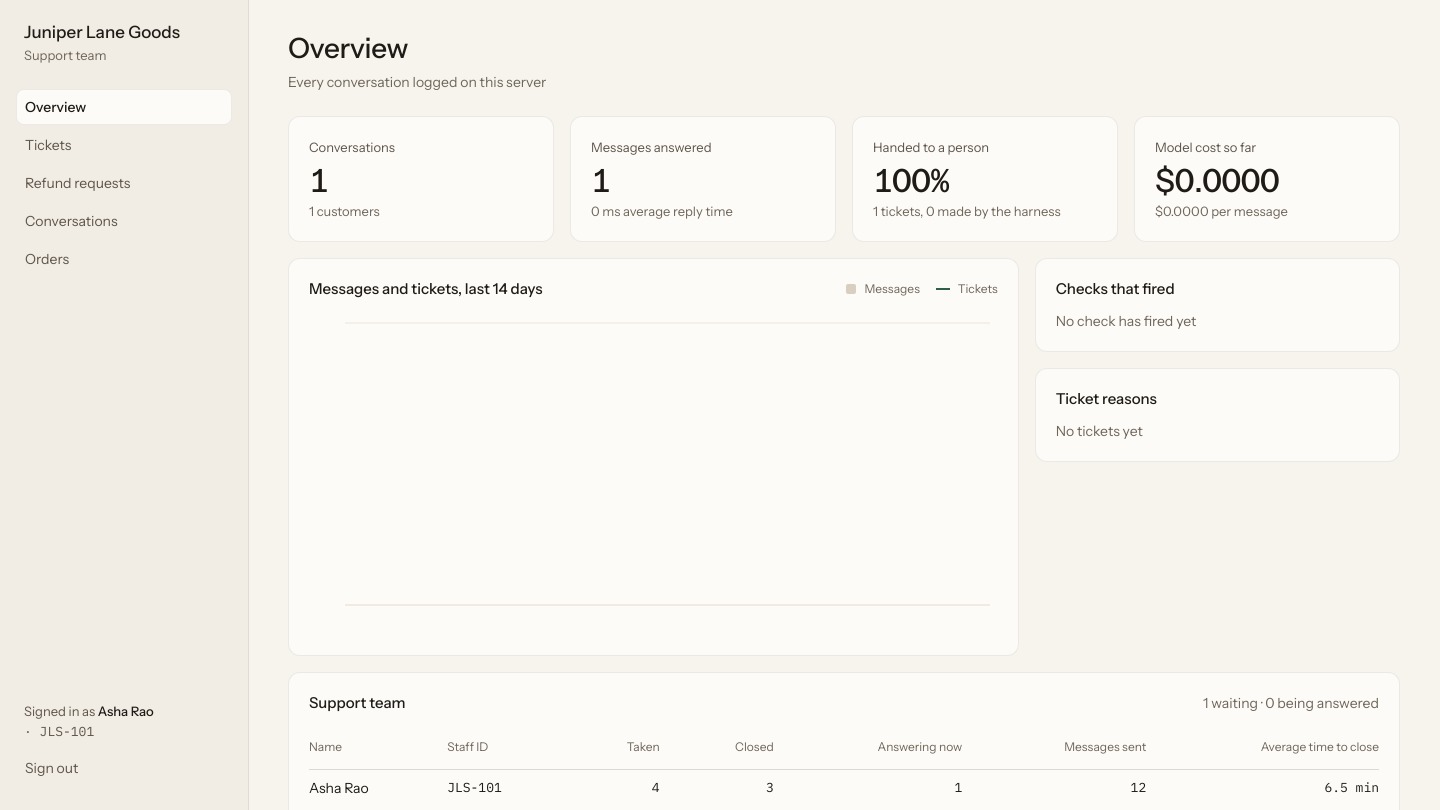
Test case: a support person in the admin panel › takes a waiting ticket, answers the customer, and ends the chat
expect the heading "Overview" is shown: met, box [288,31,408,65]
Click the button "Tickets".
click(124, 145)  # box [16,127,232,163]
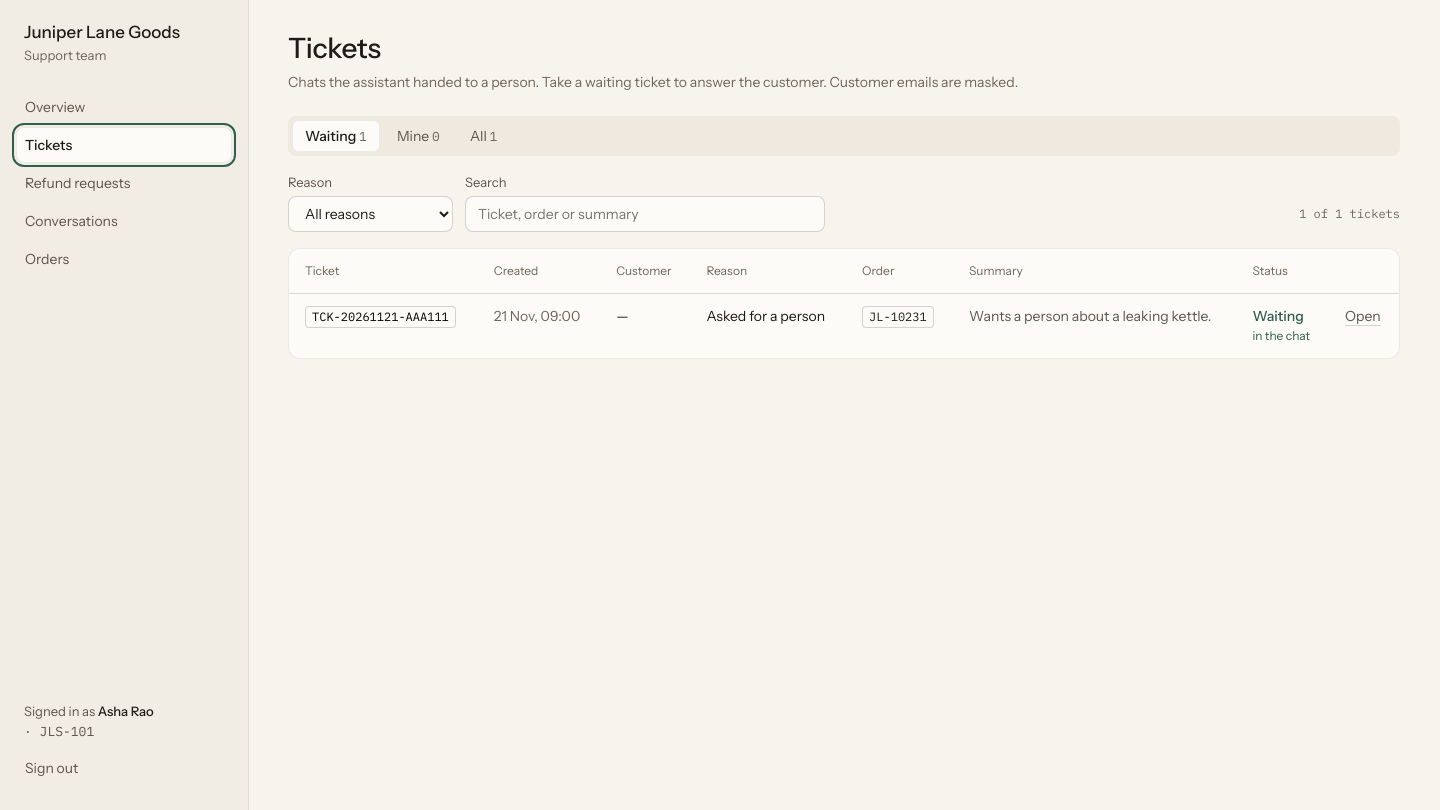
expect the text "Waiting" is shown: met, box [1252,307,1304,325]
expect the text "in the chat" is shown: met, box [1252,326,1313,346]
Note: The ticket number opens it too, for narrow windows where the Open column is out of view.
Click the button with aria-label "Open ticket TCK-20261121-AAA111".
click(380, 317)  # box [305,306,456,328]
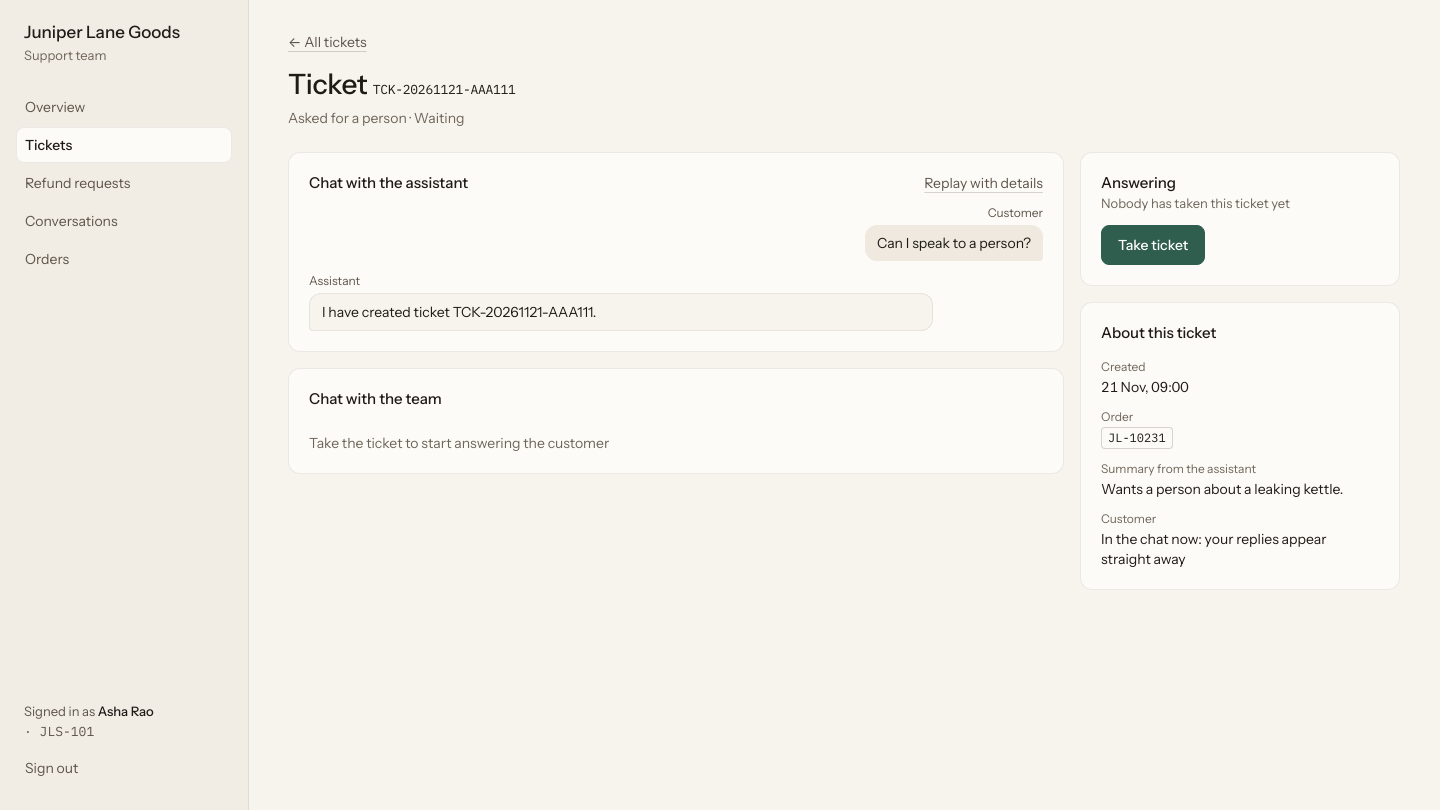
expect the field labelled "Your reply" is not shown: met
expect the text "Can I speak to a person?" is shown: met, box [877,234,1031,252]
expect the text "In the chat now: your replies appear straight away" is shown: met, box [1101,530,1327,568]
Click the button "Take ticket".
click(1153, 245)  # box [1101,225,1205,265]
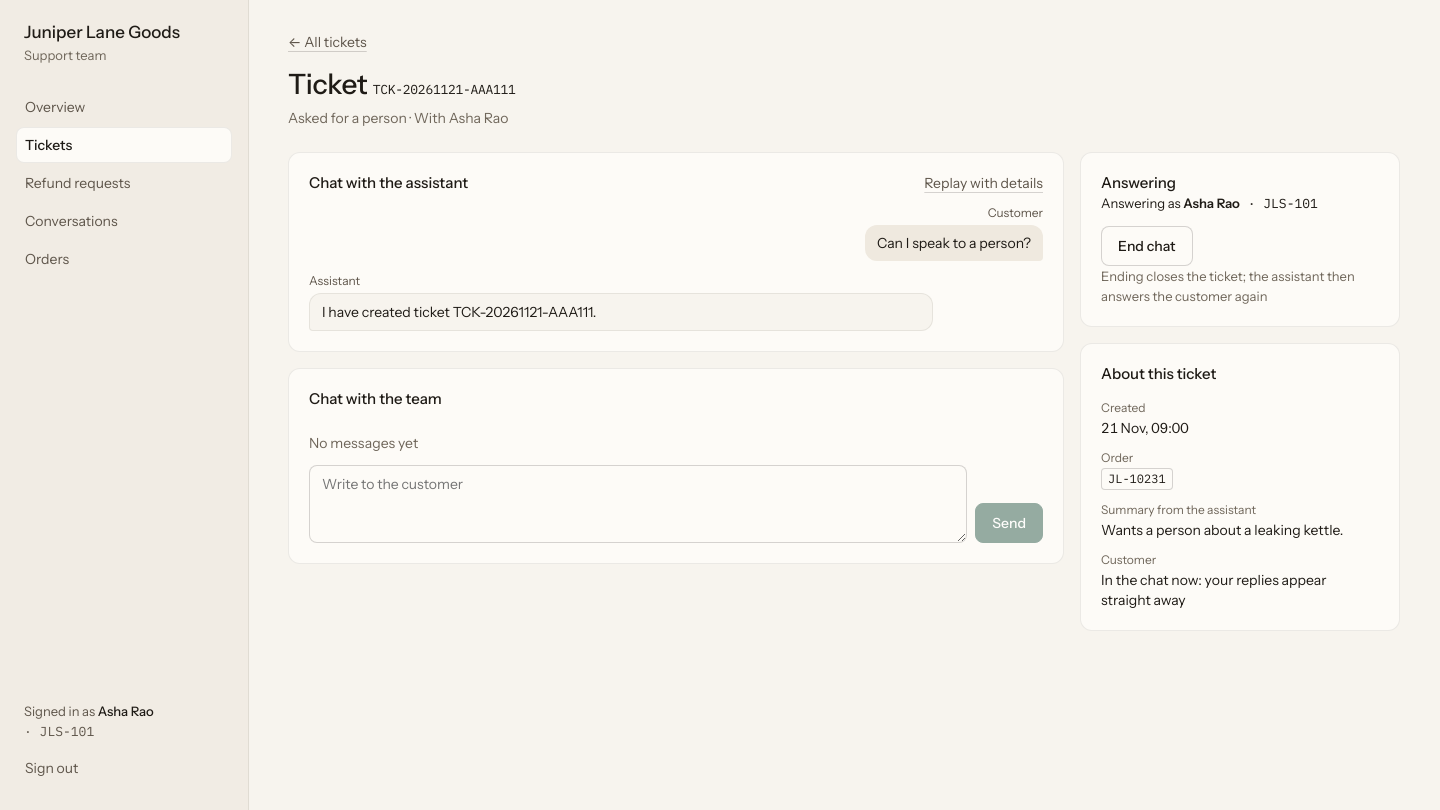
expect the text "Answering as Asha Rao · JLS-101" is shown: met, box [1101,195,1318,212]
Type "Hi Priya, I am here." into the text box named "Your reply".
click(638, 504); type("Hi Priya, I am here.")  # box [309,465,967,543]
Then press Enter
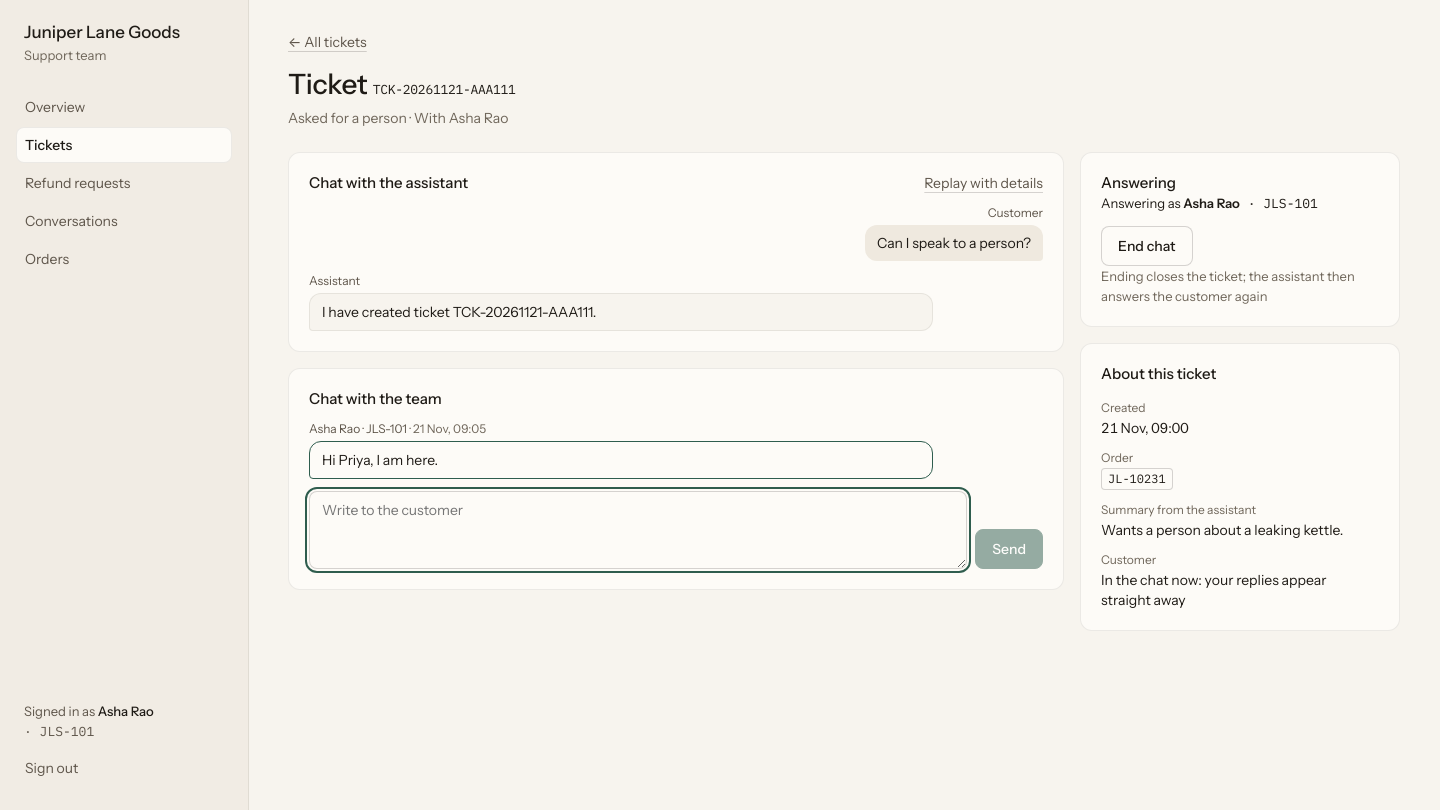
expect the text box named "Your reply" is empty: met, box [309,491,967,569]
expect the text "Hi Priya, I am here." is shown: met, box [322,451,438,469]
Click the button "End chat".
click(1147, 246)  # box [1101,226,1192,266]
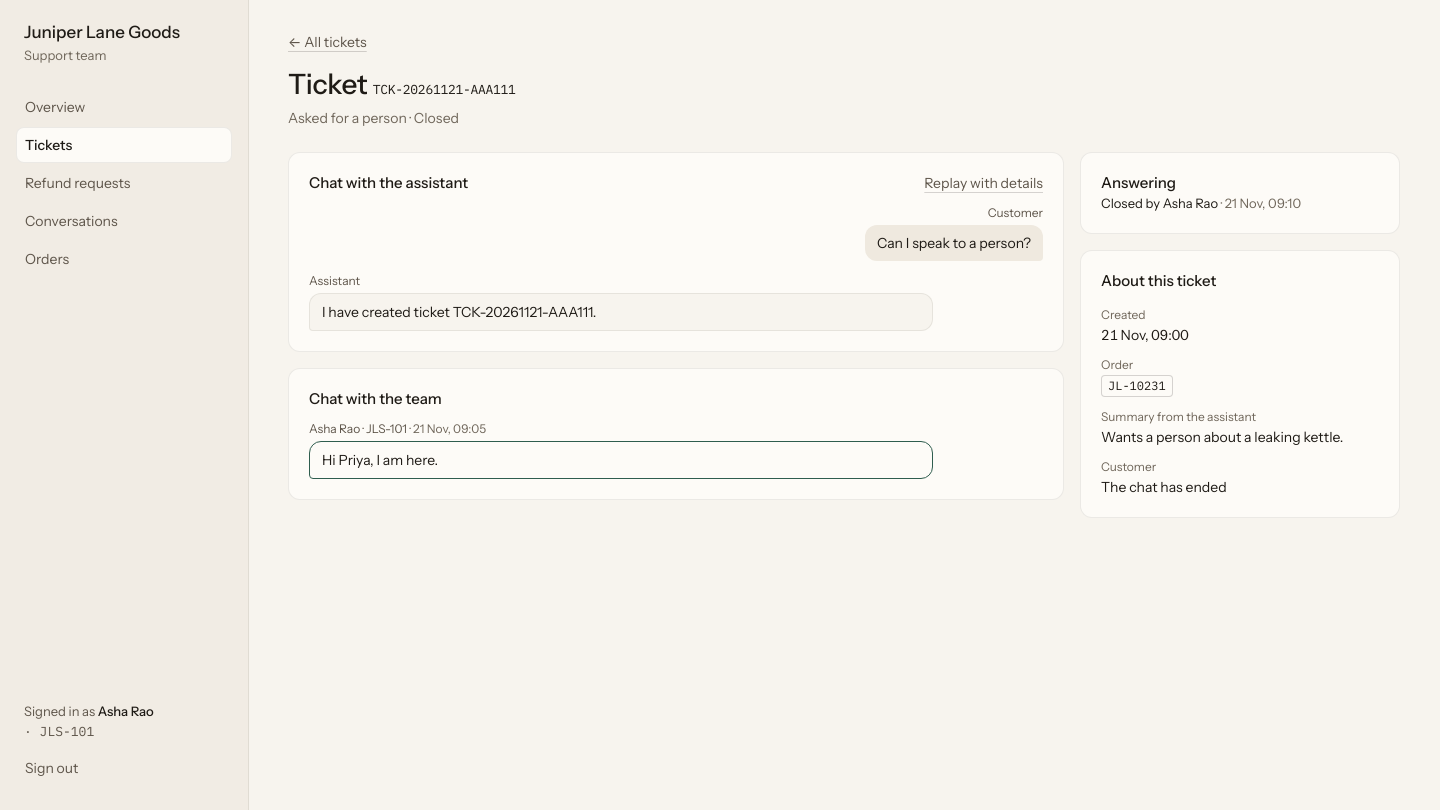
expect the field labelled "Your reply" is not shown: met
expect the text "Closed by Asha Rao · 21 Nov, 09:10" is shown: met, box [1101,195,1301,211]
